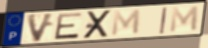E: (53, 11, 84, 41)
I: (159, 7, 169, 35)
M: (110, 9, 142, 38), (168, 5, 200, 34)
V: (26, 12, 57, 44)
X: (82, 9, 114, 40)
